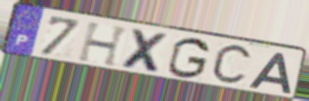7: (41, 14, 84, 58)
A: (246, 52, 293, 95)
C: (208, 43, 255, 87)
G: (165, 36, 212, 80)
H: (76, 21, 132, 69)
X: (119, 27, 172, 76)
